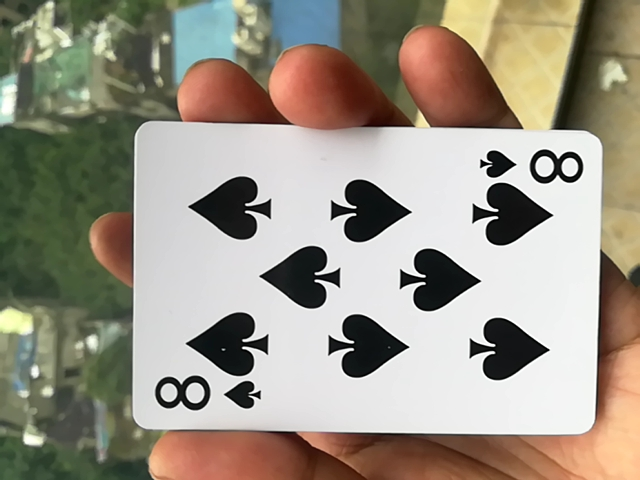ht 8: (116, 119, 586, 454)
